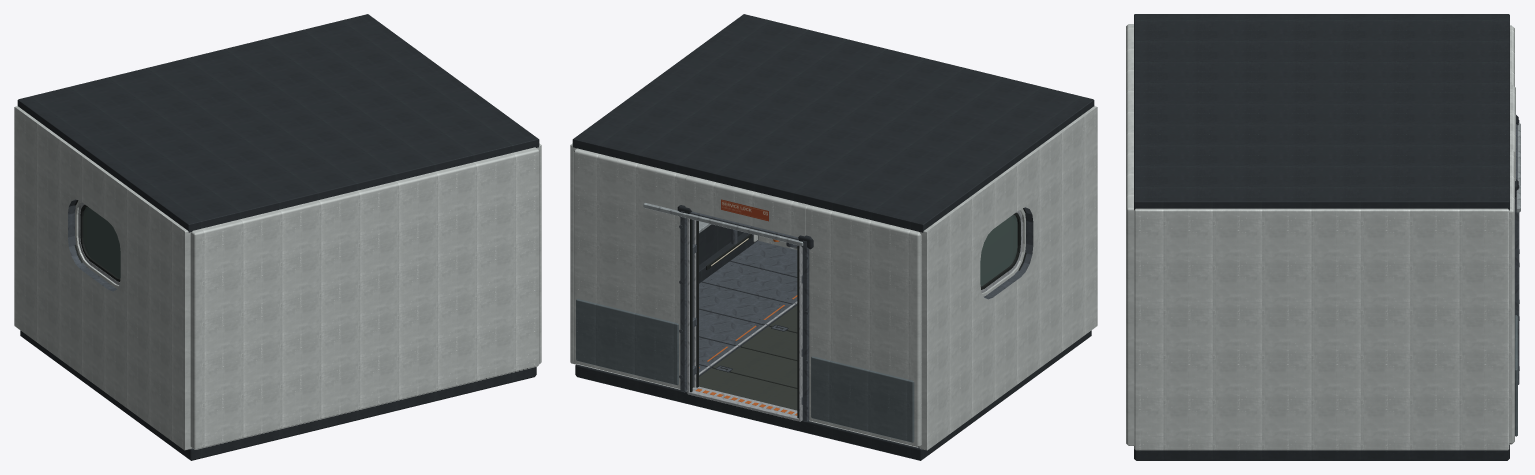
The model's file is shell.fbx.
3 views of the same model, side by side, from view 1: azimuth 30°, elevation 25°; view 2: azimuth 150°, elevation 25°; view 3: azimuth 270°, elevation 25° (orthographic). The views are drawn at different scales.
Parts seen in each view (by area): view 1: SM_shell; view 2: SM_shell; view 3: SM_shell.
Boxes of the visible parts, x1,y1,x2,y2 form: SM_shell: [14, 14, 541, 460]; SM_shell: [570, 14, 1097, 460]; SM_shell: [1126, 14, 1520, 460].
Size of the model in its own units: 4.59 by 2.92 by 4.
35 materials, 22 textured.
